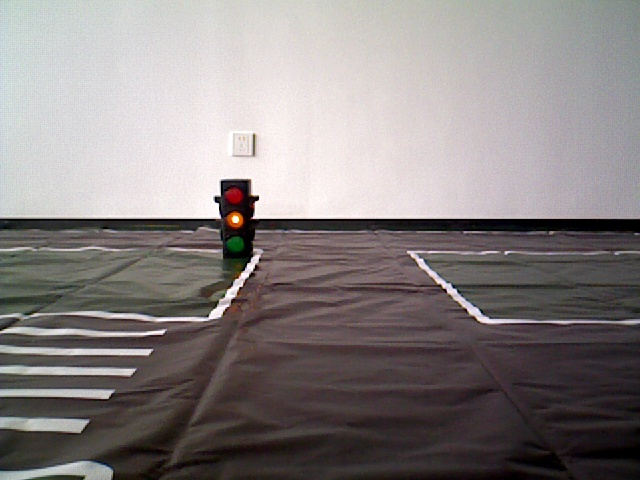yellow: (217, 179, 256, 259)
